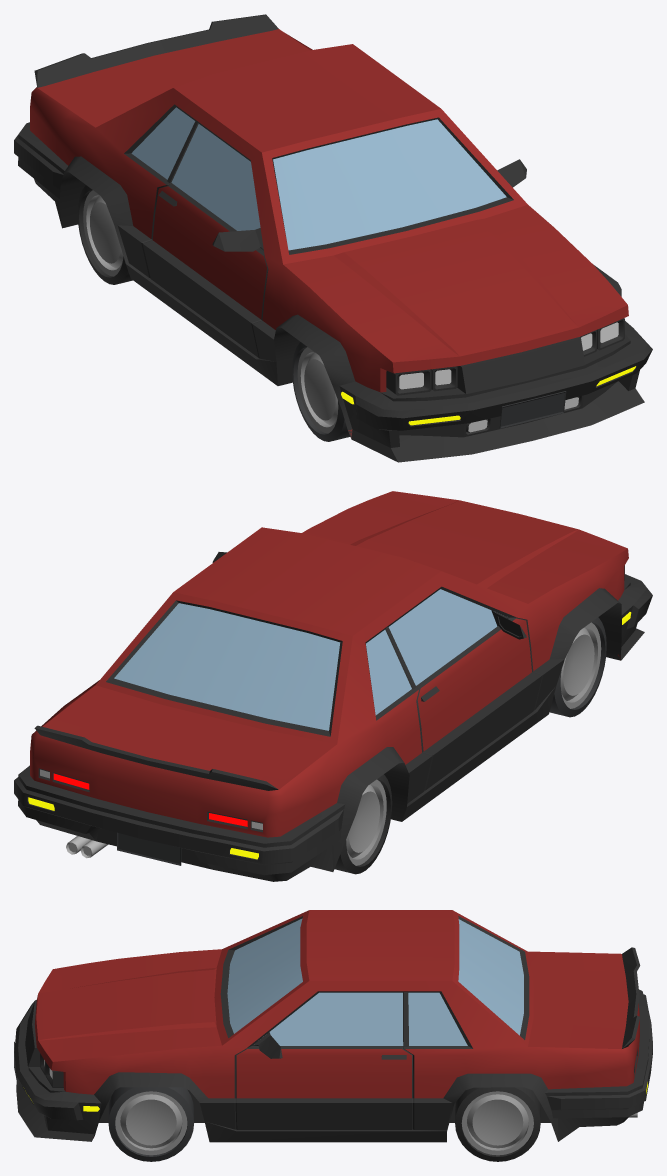
Rendered from car3.fbx.
3 renders of one model, top to bottom at view 1: azimuth 30°, elevation 25°; view 2: azimuth 150°, elevation 25°; view 3: azimuth 270°, elevation 25°, orthographic. The views are drawn at different scales.
Visible parts, largest first — view 1: car4.001, car3_wheels_f, car3_wheels_b, car2.002; view 2: car4.001, car3_wheels_f, car3_wheels_b, car2.002, car1.002; view 3: car4.001, car3_wheels_f, car3_wheels_b.
Part boxes in pixels (x1=…): car4.001: x1=14, y1=14, x2=652, y2=462; car3_wheels_f: x1=292, y1=342, x2=350, y2=441; car3_wheels_b: x1=77, y1=185, x2=132, y2=284; car2.002: x1=499, y1=391, x2=566, y2=428; car4.001: x1=14, y1=491, x2=652, y2=881; car3_wheels_f: x1=549, y1=617, x2=606, y2=717; car3_wheels_b: x1=334, y1=774, x2=392, y2=874; car2.002: x1=117, y1=832, x2=181, y2=865; car1.002: x1=66, y1=836, x2=108, y2=858; car4.001: x1=14, y1=910, x2=652, y2=1142; car3_wheels_f: x1=108, y1=1087, x2=194, y2=1161; car3_wheels_b: x1=455, y1=1087, x2=540, y2=1161.
Bounding box in the file's own units: 315 × 198 × 687.
